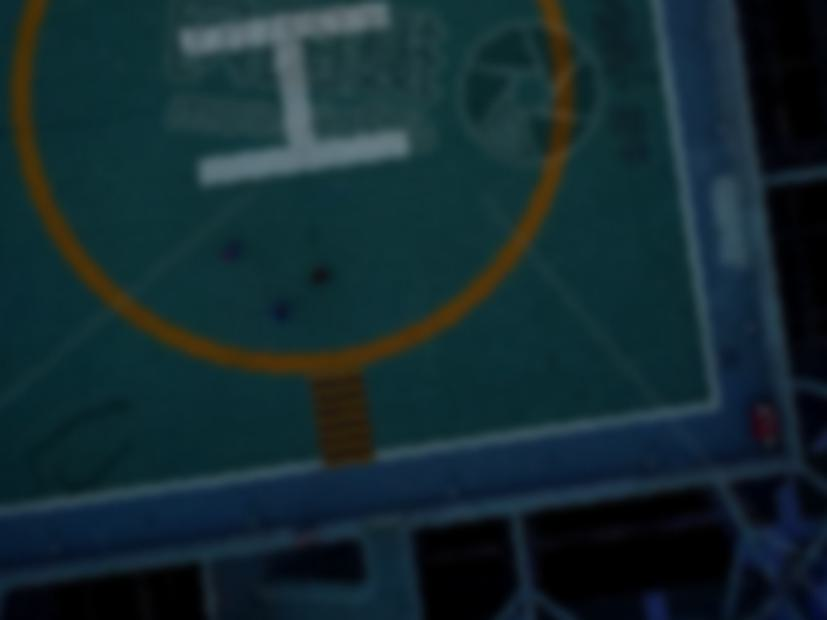Apron: (1, 1, 608, 387)
